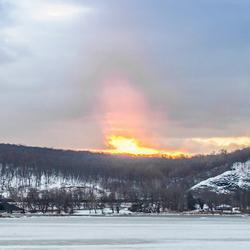fire: (111, 138, 143, 154)
